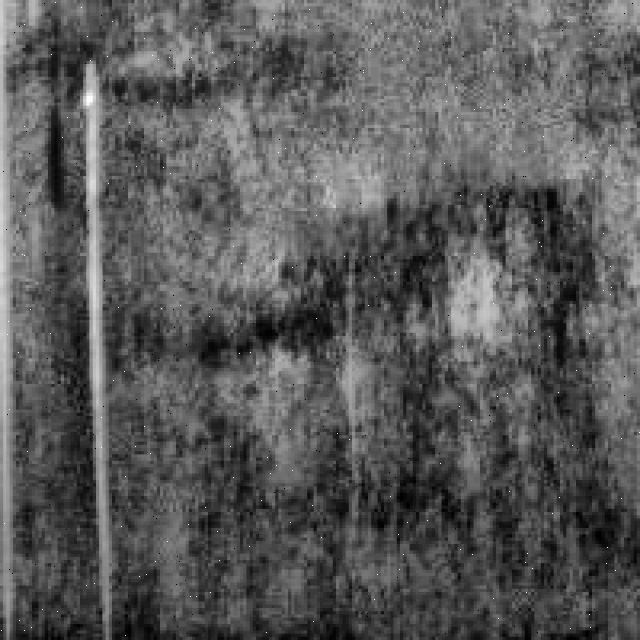Inclusion: (74, 48, 122, 557)
